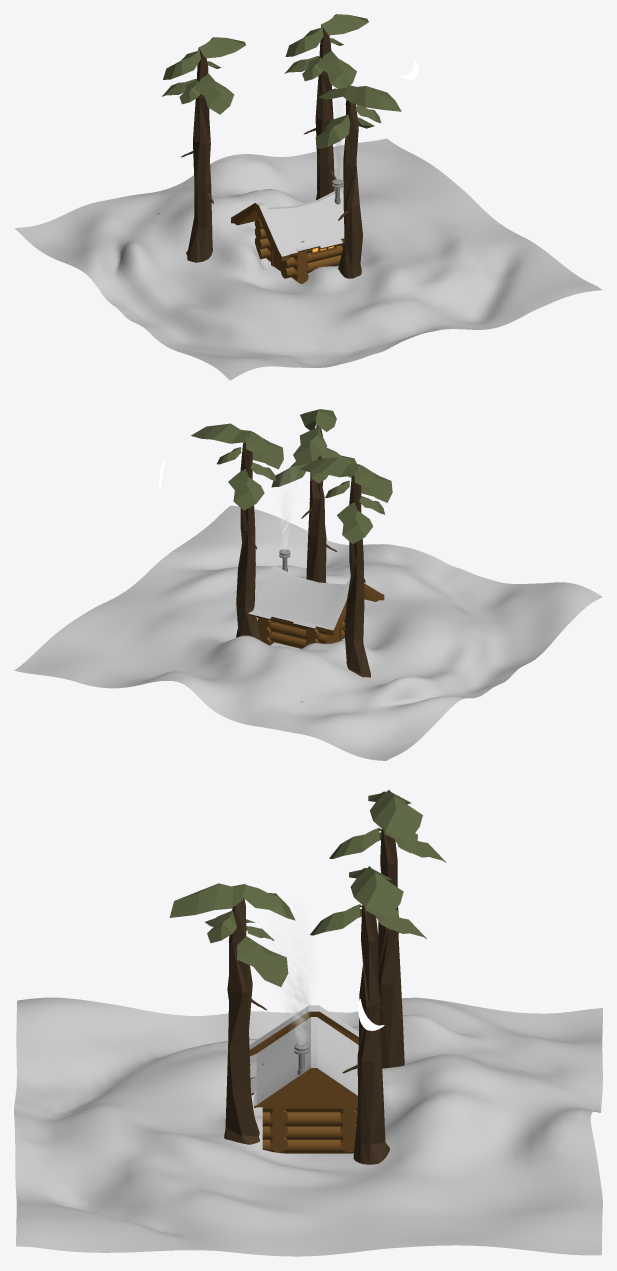
File: cozy_cabin.glb
3 renders of one model, top to bottom at view 1: azimuth 30°, elevation 25°; view 2: azimuth 150°, elevation 25°; view 3: azimuth 270°, elevation 25°, orthographic. The views are drawn at different scales.
Parts seen in each view (by area): view 1: Snow, Roof, Tree008, Tree005, Tree, Leaf009, Cylinder001, Leaf015_Material #179_0, Leaf002_Material #179_0, Leaf011_Material #179_0, Leaf, Leaf016 (+2 smaller); view 2: Snow, Roof, Tree008, Tree, Tree005, Leaf003_Material #179_0, Leaf012_Material #179_0, Leaf010_Material #179_0, Leaf017_Material #179_0, Leaf, Leaf016, Leaf001_Material #179_0 (+4 smaller); view 3: Snow, Roof, Tree, Tree005, Tree008, Leaf016, Leaf, Leaf009, smoke, Leaf007_Material #179_0, Cylinder014, Cylinder016 (+5 smaller).
Boxes of the visible parts, x1,y1,x2,y2 form: Snow: [14, 138, 602, 380]; Roof: [231, 190, 363, 261]; Tree008: [186, 51, 212, 262]; Tree005: [338, 86, 362, 278]; Tree: [315, 28, 334, 199]; Leaf009: [343, 85, 401, 111]; Cylinder001: [280, 239, 344, 278]; Leaf015_Material #179_0: [195, 73, 234, 114]; Leaf002_Material #179_0: [317, 50, 356, 88]; Leaf011_Material #179_0: [315, 114, 350, 149]; Leaf: [321, 14, 368, 35]; Leaf016: [198, 37, 245, 58]; Snow: [14, 505, 602, 760]; Roof: [248, 565, 384, 635]; Tree008: [345, 475, 370, 677]; Tree: [236, 442, 262, 641]; Tree005: [306, 422, 326, 582]; Leaf003_Material #179_0: [228, 469, 264, 510]; Leaf012_Material #179_0: [337, 502, 372, 543]; Leaf010_Material #179_0: [293, 426, 326, 465]; Leaf017_Material #179_0: [354, 465, 392, 502]; Leaf: [191, 423, 251, 443]; Leaf016: [299, 457, 360, 477]; Leaf001_Material #179_0: [246, 432, 283, 469]; Snow: [14, 997, 602, 1256]; Roof: [249, 1005, 358, 1107]; Tree: [353, 905, 389, 1164]; Tree005: [224, 885, 259, 1144]; Tree008: [378, 829, 404, 1068]; Leaf016: [370, 790, 422, 841]; Leaf: [350, 866, 403, 918]; Leaf009: [169, 883, 245, 917]; smoke: [285, 953, 310, 1044]; Leaf007_Material #179_0: [237, 936, 288, 986]; Cylinder014: [262, 1112, 356, 1126]; Cylinder016: [262, 1140, 353, 1153].
Bounding box in the file's own units: 895 × 532 × 898.
9 materials, 1 textured.
